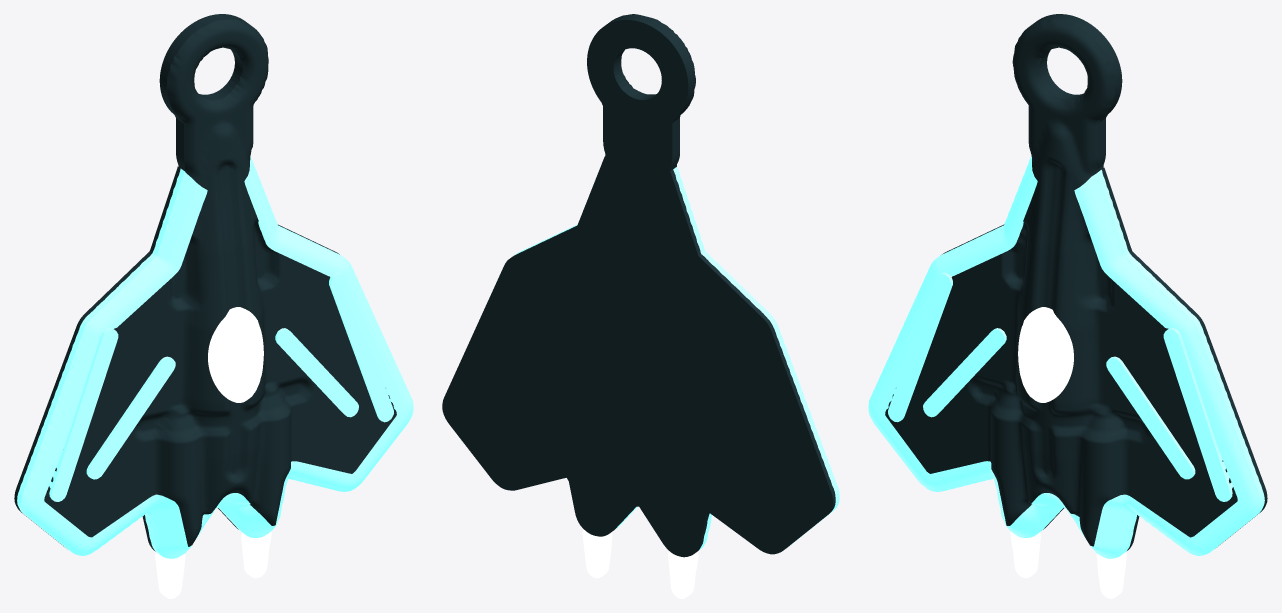
The model's file is voidrunner-keychain.glb.
3 views of the same model, side by side, from view 1: azimuth 30°, elevation 25°; view 2: azimuth 150°, elevation 25°; view 3: azimuth 330°, elevation 25° (orthographic).
Parts seen in each view (by area): view 1: hull, neon, canopy, flame; view 2: hull, neon, flame; view 3: hull, neon, canopy, flame.
Part boxes in pixels (x1,y1,x2,y2): hull: (14,14,396,551); neon: (17,156,413,558); canopy: (208,307,263,402); flame: (155,531,271,598); hull: (442,14,835,557); neon: (514,167,839,549); flame: (582,530,698,598); hull: (885,14,1267,550); neon: (868,156,1264,558); canopy: (1018,307,1073,402); flame: (1010,531,1126,598).
Bounding box in the file's own units: 0.0339 × 0.0471 × 0.0059.
